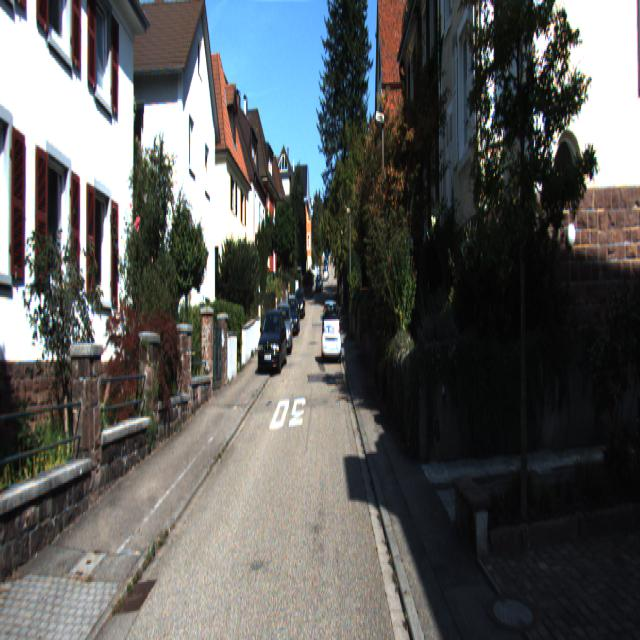Car: (256, 311, 290, 378), (321, 300, 341, 366), (274, 307, 294, 362)
